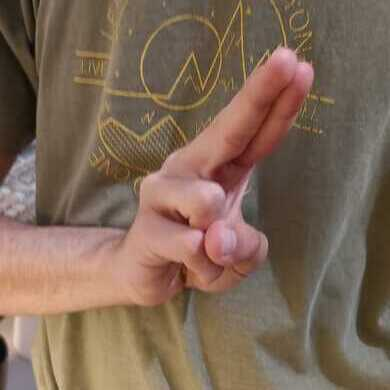U: (123, 47, 315, 307)
